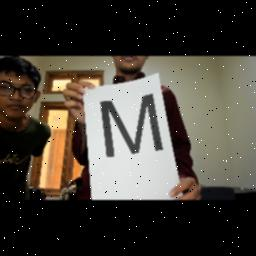m: (92, 94, 170, 158)
